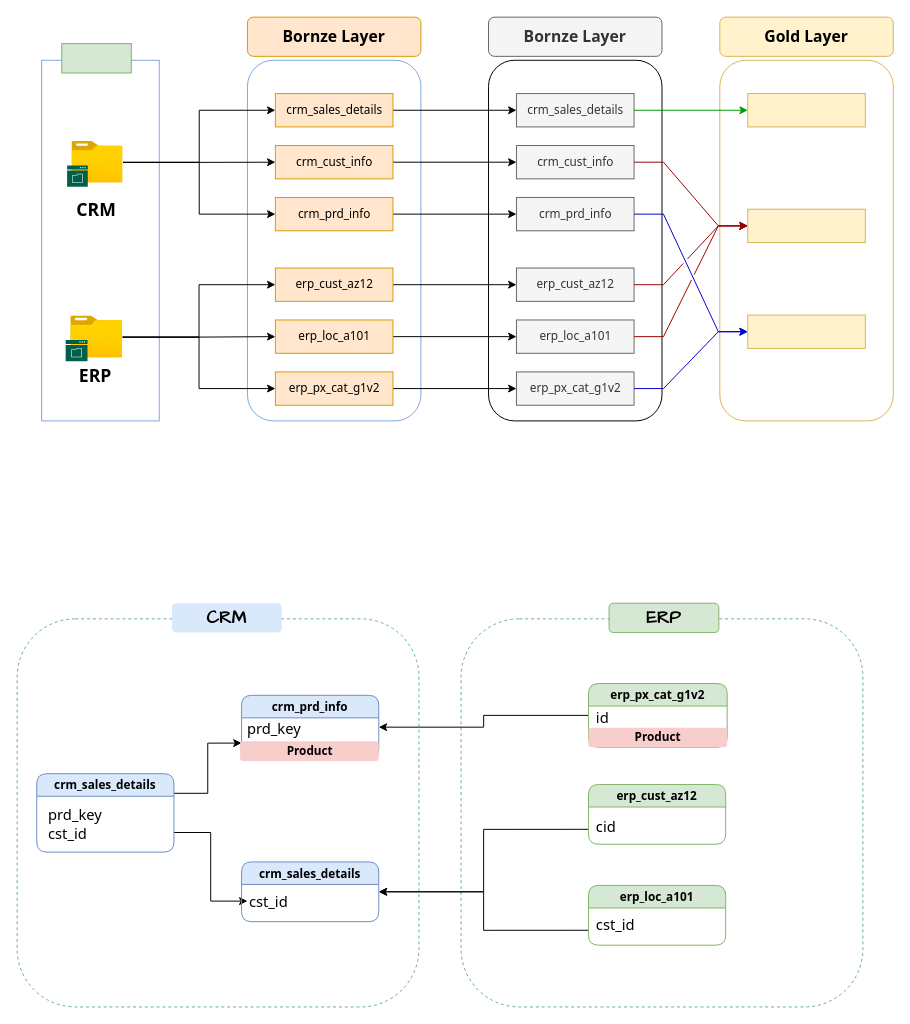
Some shapes in this 910 by 1024 pixel diagram are drawn without their labels. Each missing label, with the box of its shape:
dim_customers: (747, 208, 865, 243)
dim_products: (747, 314, 865, 348)
fact_sales: (747, 93, 865, 127)
Sources: (61, 43, 131, 73)
